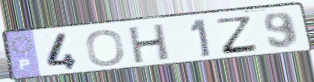1: (187, 17, 213, 59)
4: (44, 31, 83, 73)
9: (261, 11, 300, 50)
H: (128, 22, 171, 66)
O: (84, 29, 127, 68)
Z: (215, 15, 261, 56)
